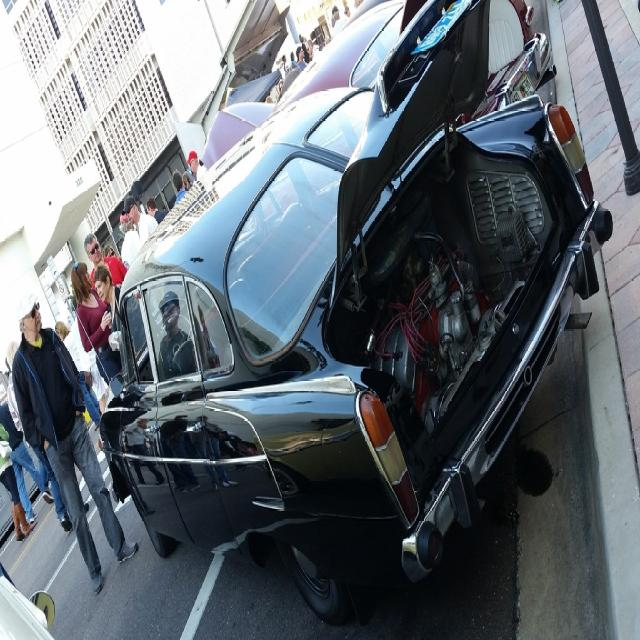car: (91, 29, 579, 604)
